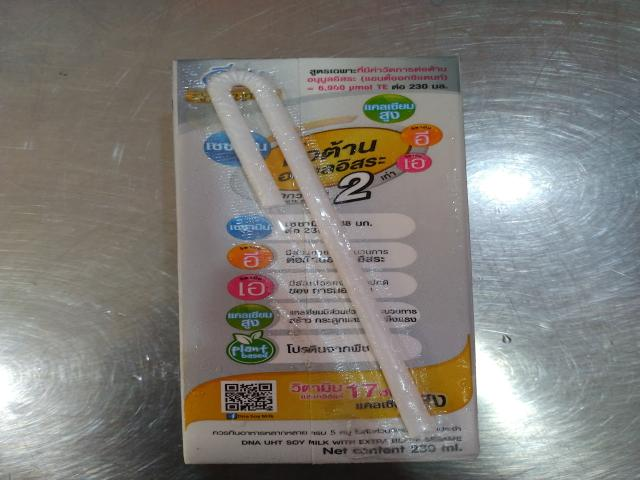drink_box: (130, 40, 521, 480)
